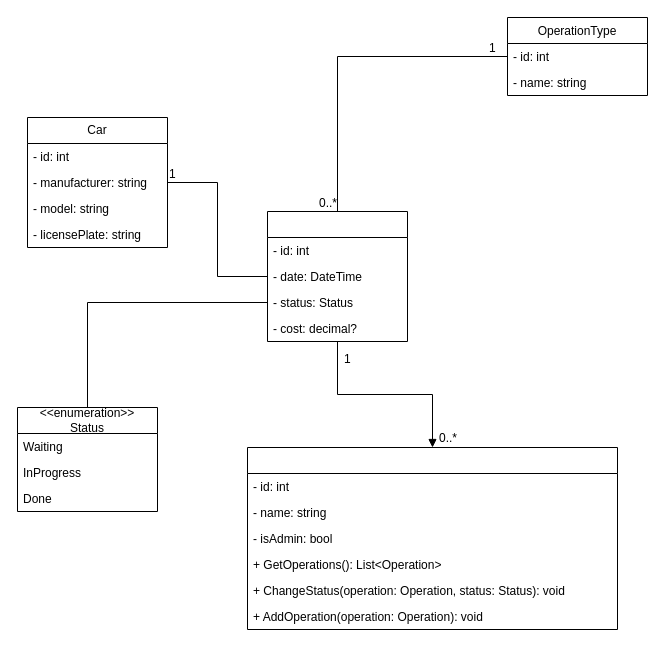
Image size: 665x650. Some labels were removed from this diagram. The box of each missing label's shape, as (x1, y1, x2, y2) in pixels:
Operation: (266, 210, 408, 342)
Worker: (246, 446, 618, 630)
